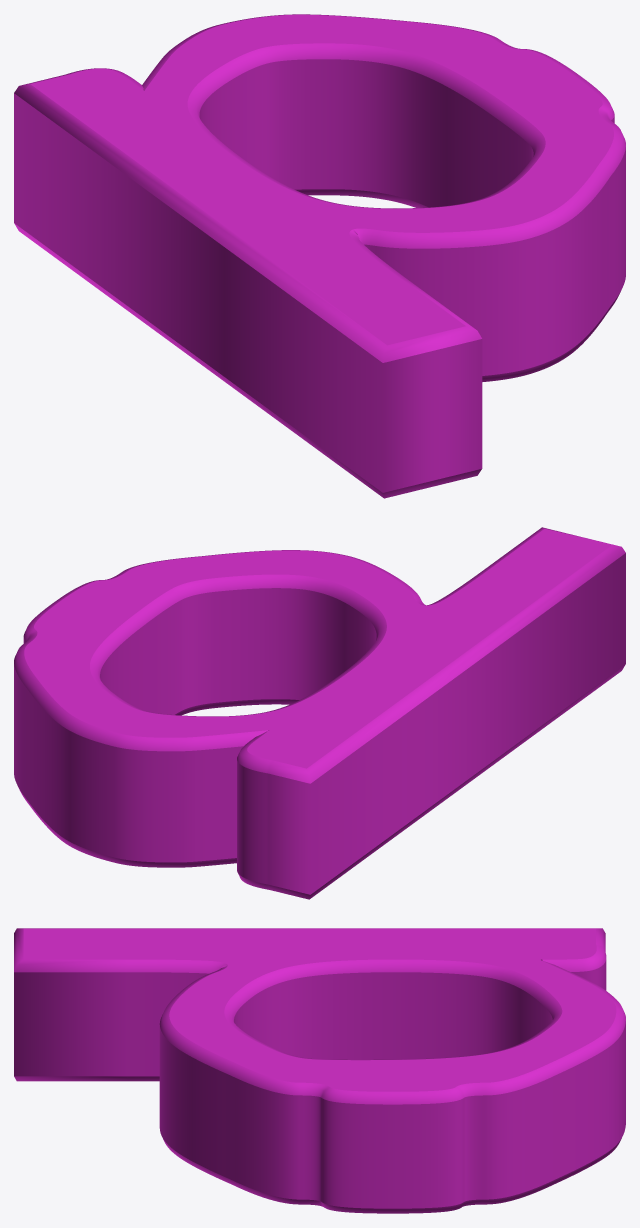
The model's file is Blocky_Letter_d.fbx.
3 renders of one model, top to bottom at view 1: azimuth 30°, elevation 25°; view 2: azimuth 150°, elevation 25°; view 3: azimuth 270°, elevation 25°, orthographic. The views are drawn at different scales.
Parts seen in each view (by area): view 1: BlockyLetter_d; view 2: BlockyLetter_d; view 3: BlockyLetter_d.
Part boxes in pixels (x1,y1,x2,y2): BlockyLetter_d: (14, 14, 625, 498); BlockyLetter_d: (14, 527, 625, 899); BlockyLetter_d: (14, 928, 625, 1213).
Size of the model in its own units: 0.4231 by 0.14 by 0.6393.
